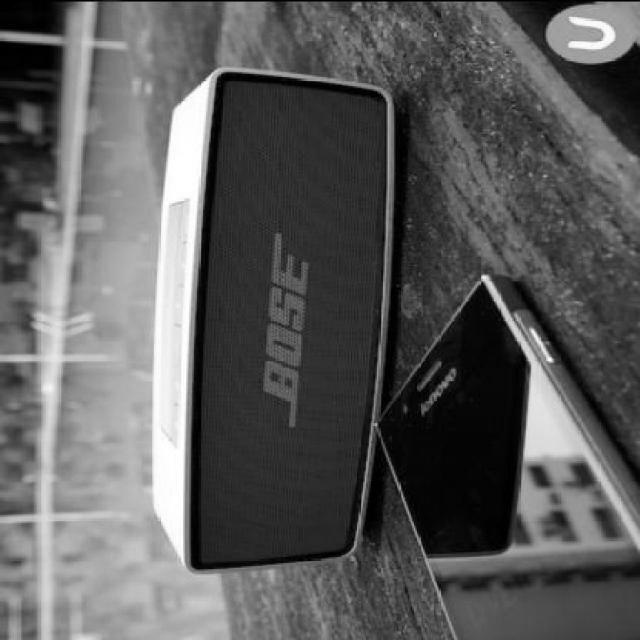fake: (380, 258, 626, 582)
